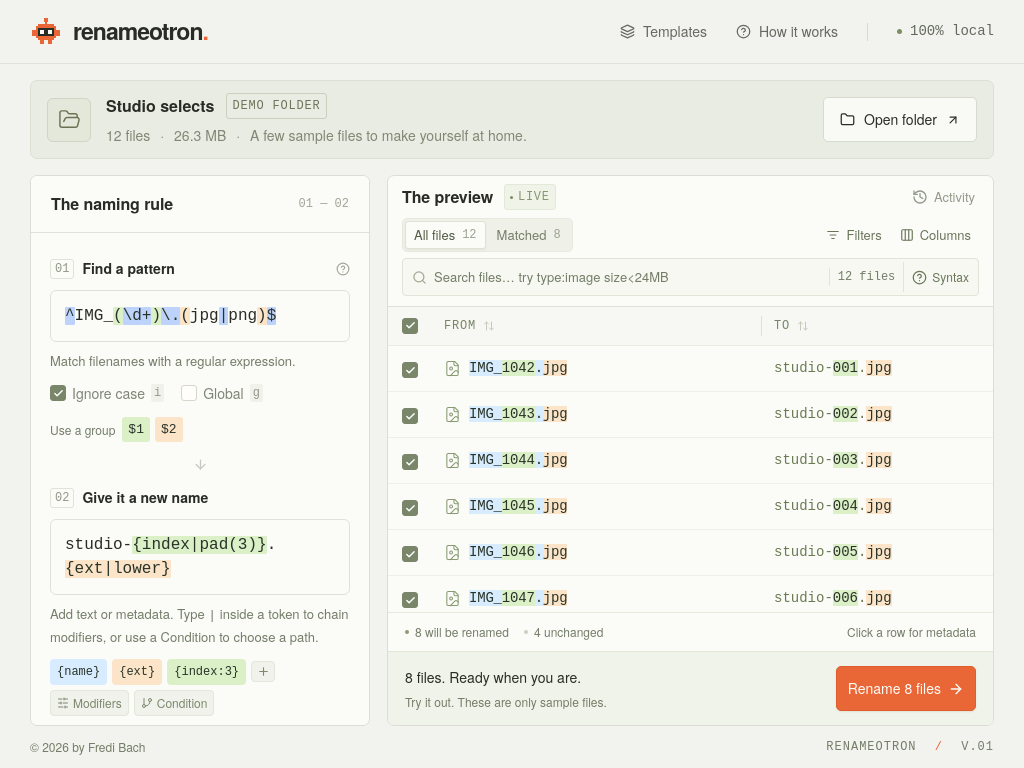
it: renameotron workspace › starts with the metadata overview when reopening a customized file
Click the button with aria-label "View metadata for IMG_1042.jpg".
click(485, 368)  # box [444,354,750,383]
(page scrolled)
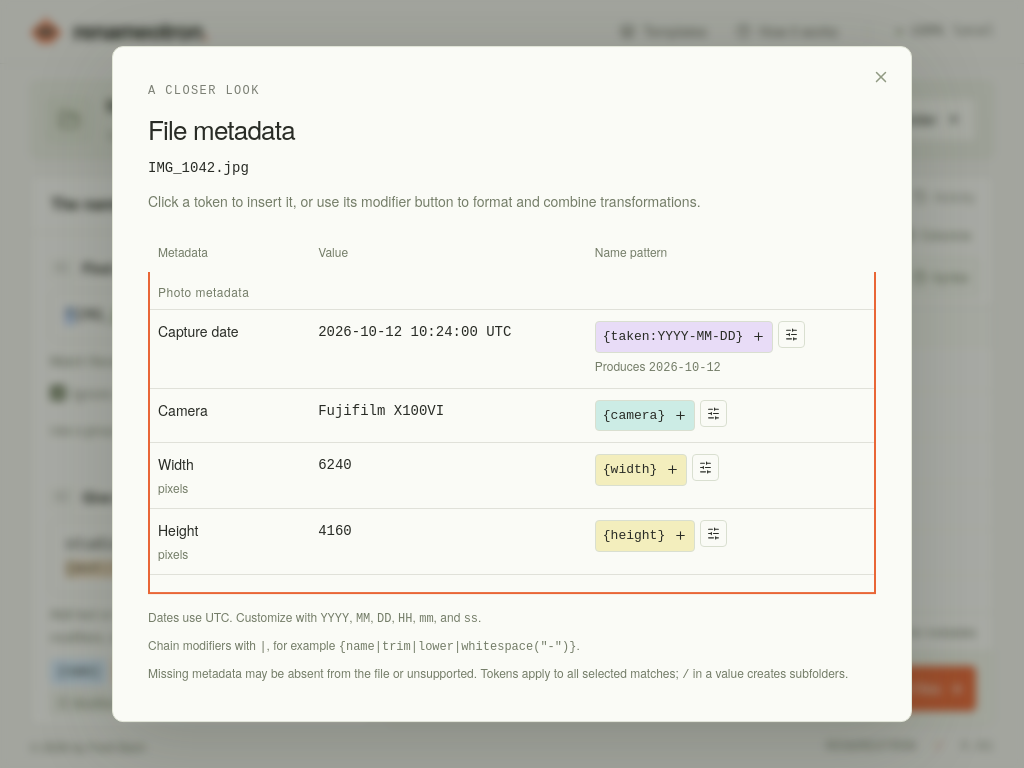
Click the button named "Customize Camera".
click(714, 413)  # box [700,400,727,427]
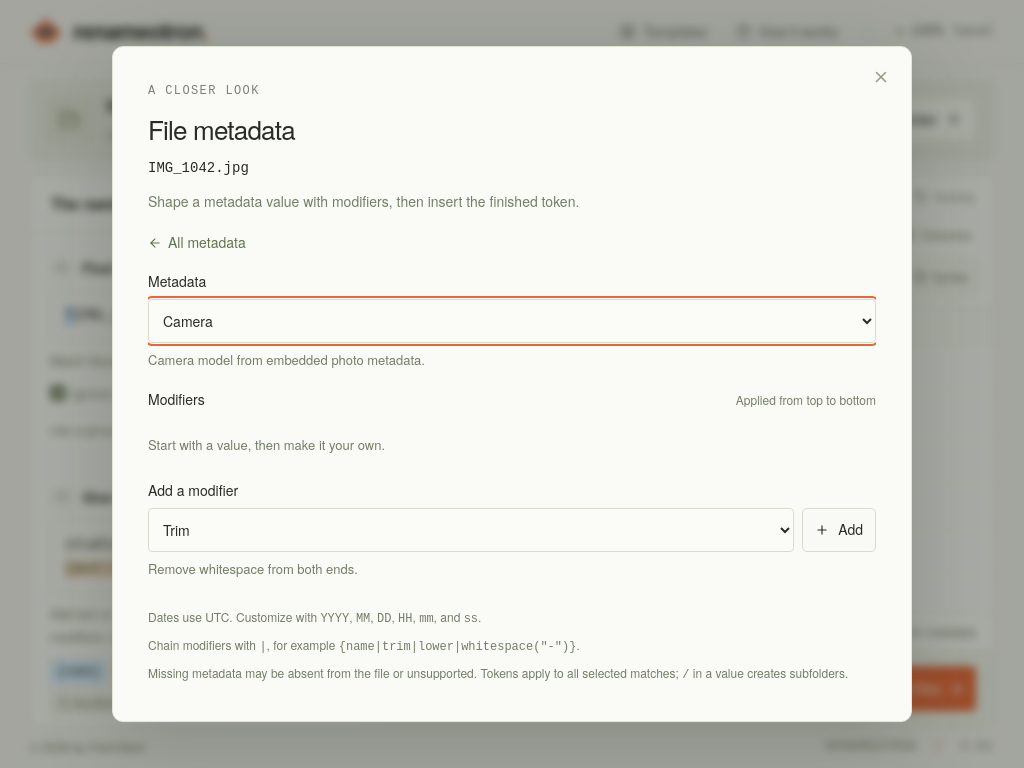
Now the button "All metadata" is shown, box [148,232,246,253]
Press Escape
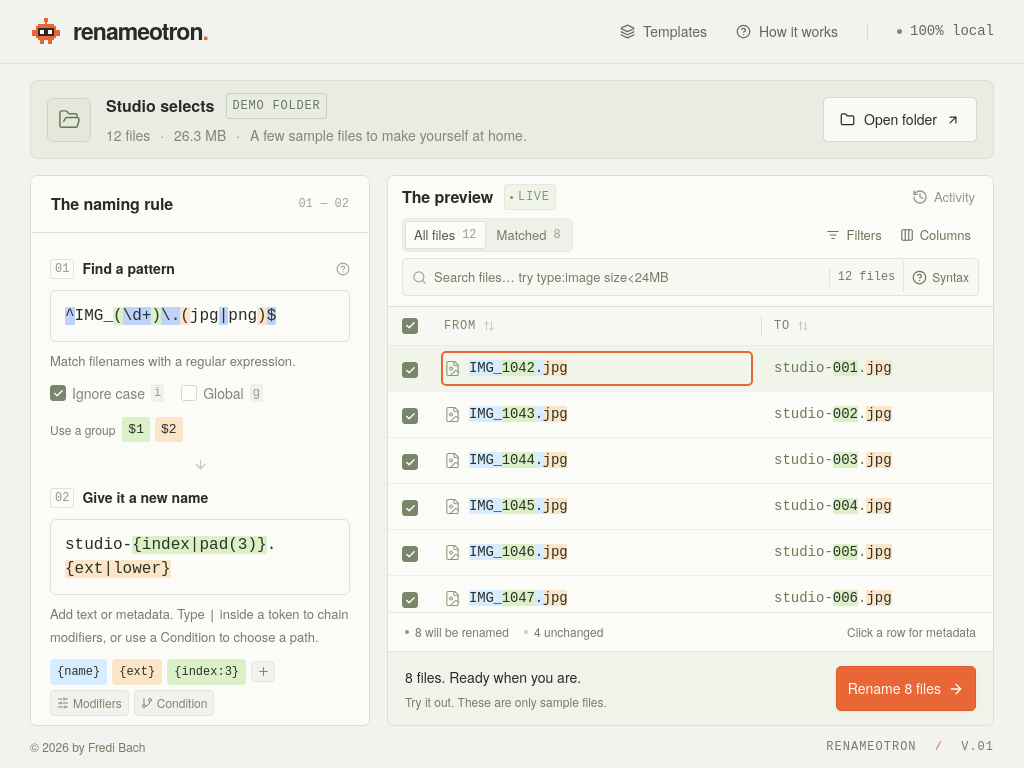
Click the button with aria-label "View metadata for IMG_1042.jpg".
click(485, 368)  # box [444,354,750,383]
(page scrolled)
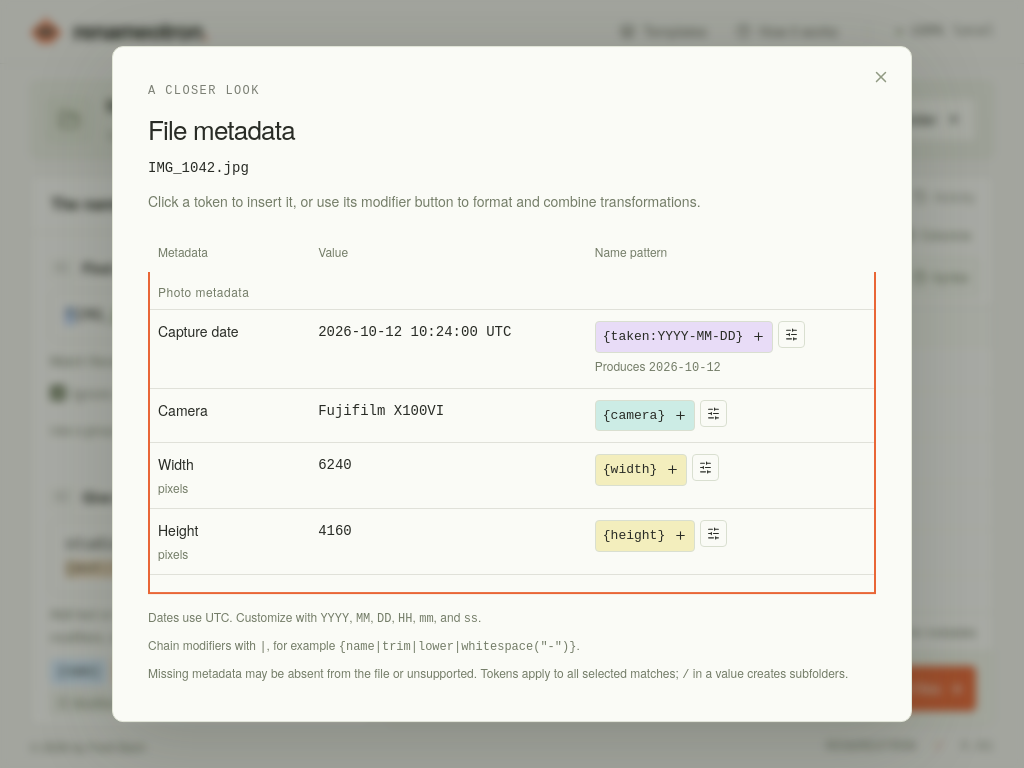
Expected: the button "All metadata" is not shown
Now the button named "Customize Camera" is shown, box [700,400,727,427]
